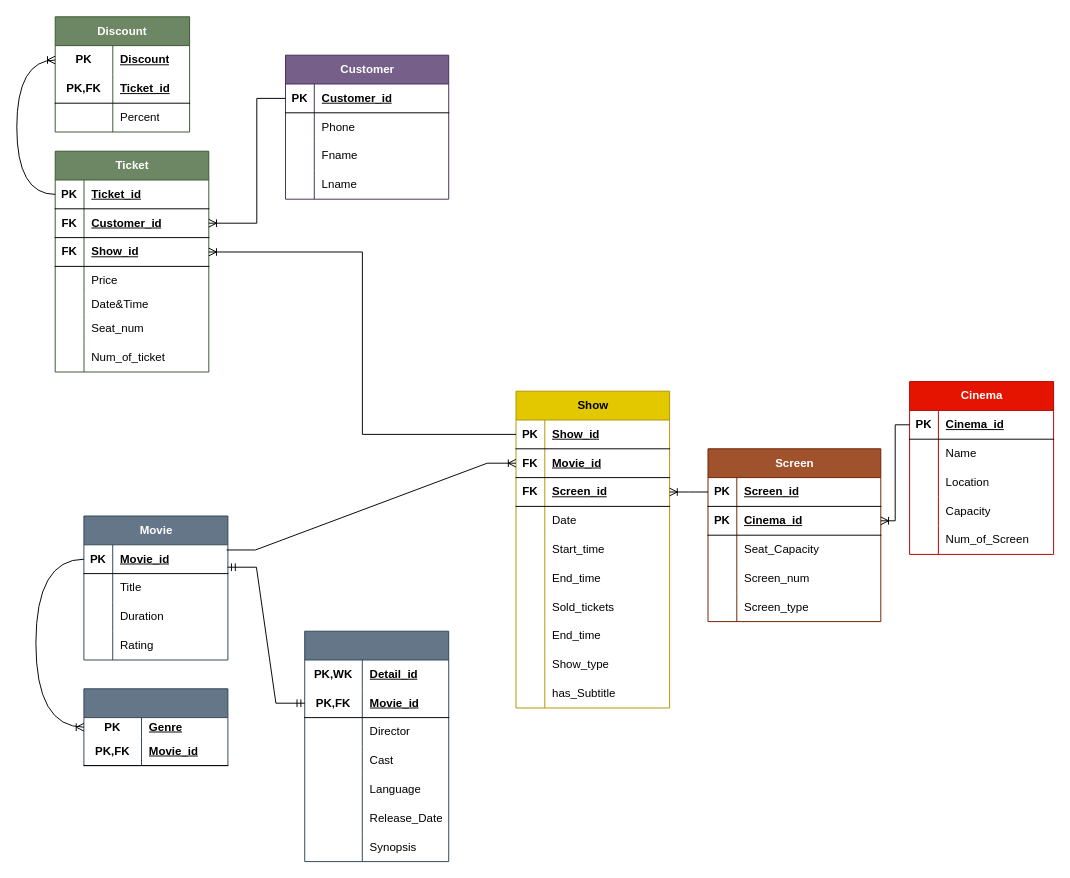
Image size: 1070x878. Some labels were removed from this diagram. Here are the shapes that lost their labels. From the top down, the box of each, then its label:
(83, 688, 228, 766): Movie_Genre
(304, 630, 449, 862): Movie_Detail
